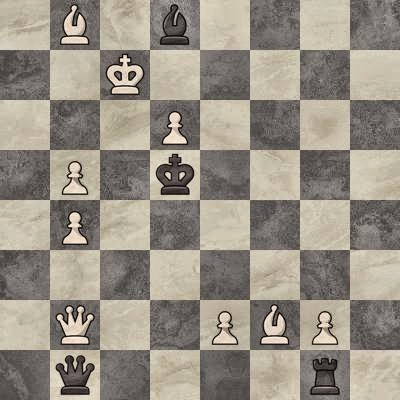black-bishop: (150, 0, 200, 50)
black-king: (150, 150, 200, 200)
black-queen: (50, 350, 100, 400)
black-rook: (300, 350, 350, 400)
white-bishop: (50, 0, 100, 50), (250, 300, 300, 350)
white-king: (100, 50, 150, 100)
white-pawn: (150, 100, 200, 150), (50, 150, 100, 200), (50, 200, 100, 250), (200, 300, 250, 350), (300, 300, 350, 350)
white-queen: (50, 300, 100, 350)
